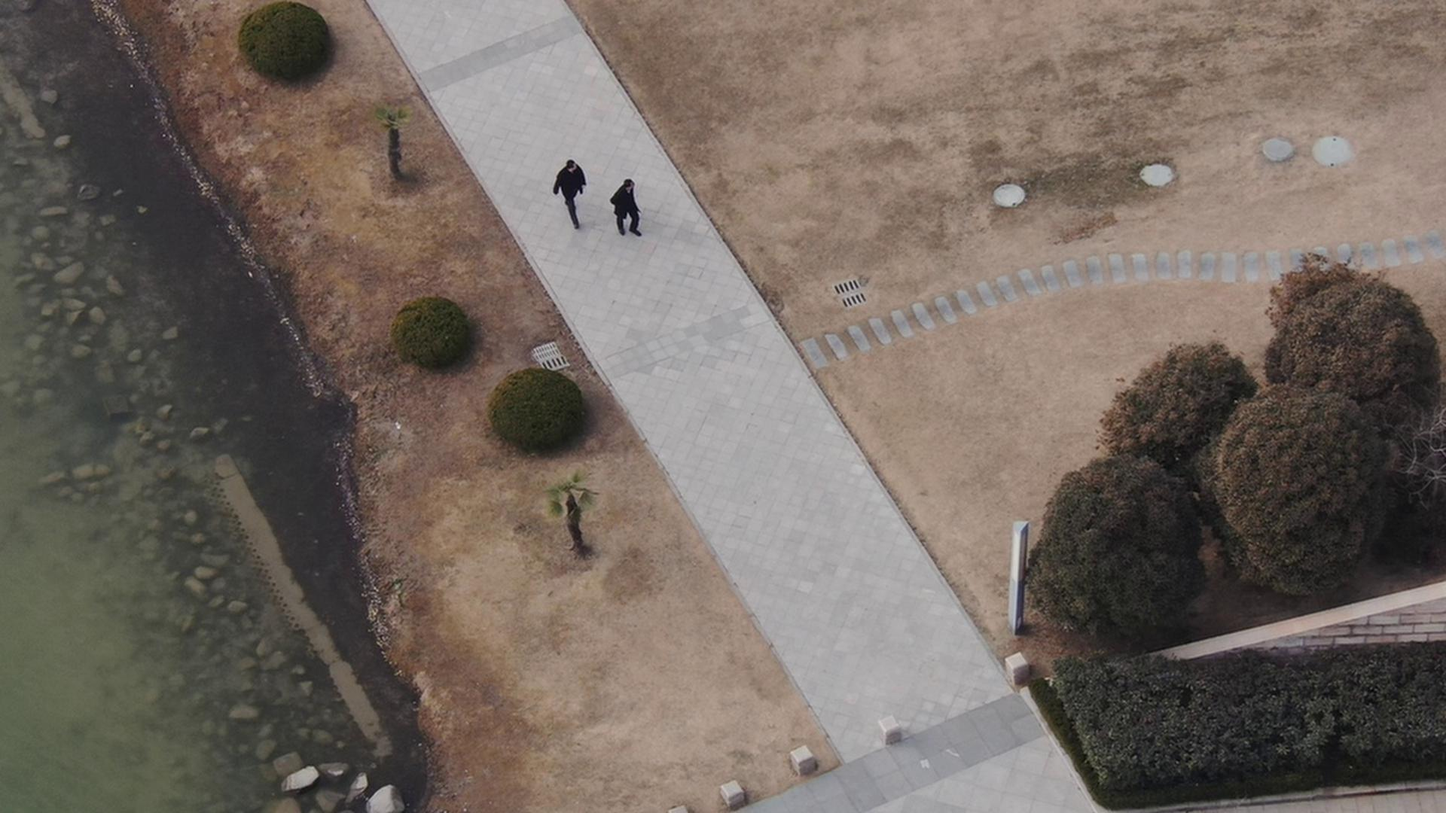human: (543, 151, 589, 239), (604, 173, 644, 248)
